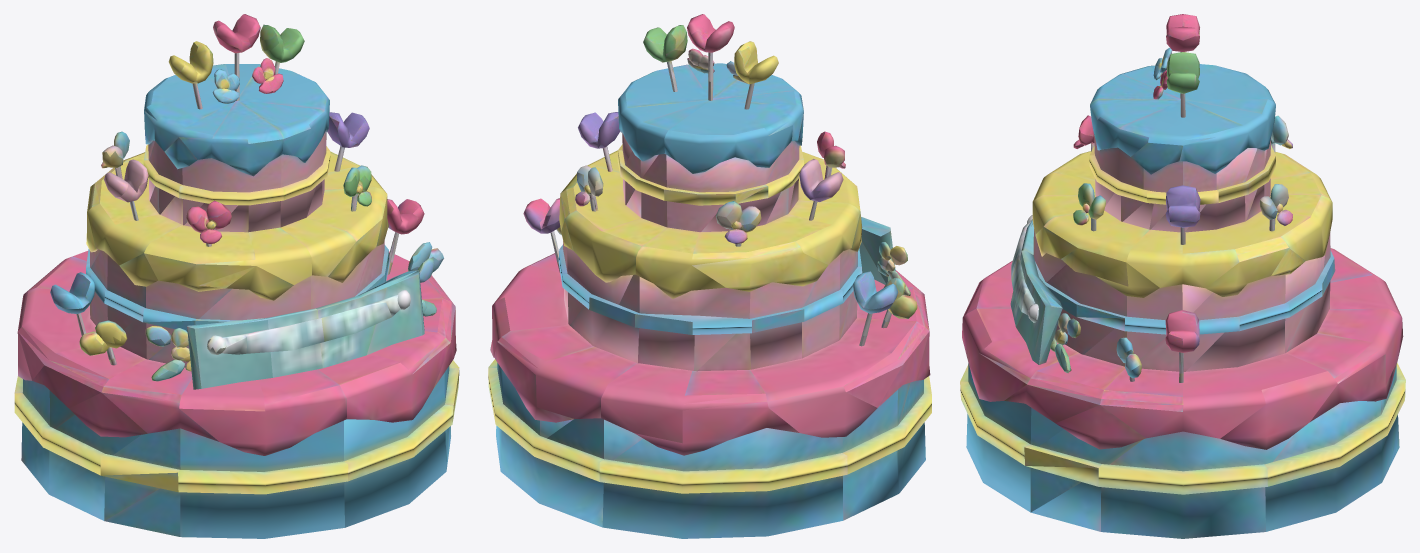
Rendered from birthday_cake.glb.
The picture shows the model from 3 angles, left to right: view 1: azimuth 30°, elevation 25°; view 2: azimuth 150°, elevation 25°; view 3: azimuth 270°, elevation 25°; orthographic projection.
Visible parts, largest first — view 1: mesh_node; view 2: mesh_node; view 3: mesh_node.
Part boxes in pixels (<box>): mesh_node: <box>14,14,459,538</box>; mesh_node: <box>488,14,931,538</box>; mesh_node: <box>960,14,1405,538</box>.
Size of the model in its own units: 0.9551 by 1 by 0.9492.
Materials: 1 (1 with a texture image).
